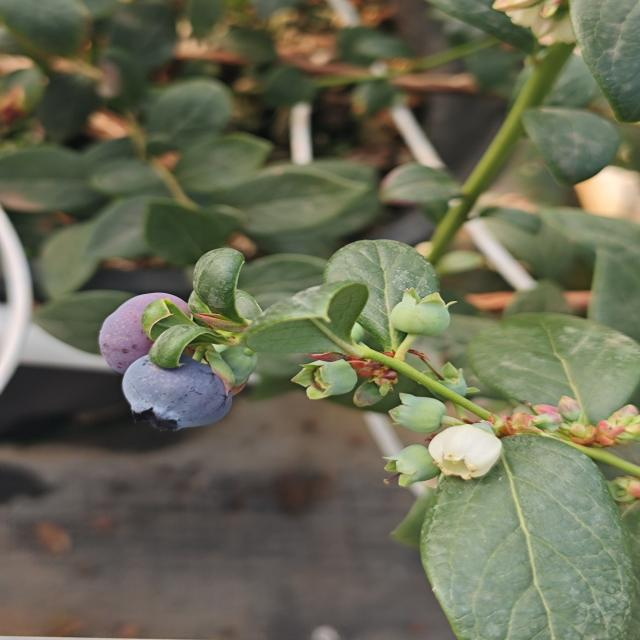ripe: (118, 351, 234, 434), (96, 290, 194, 376)
